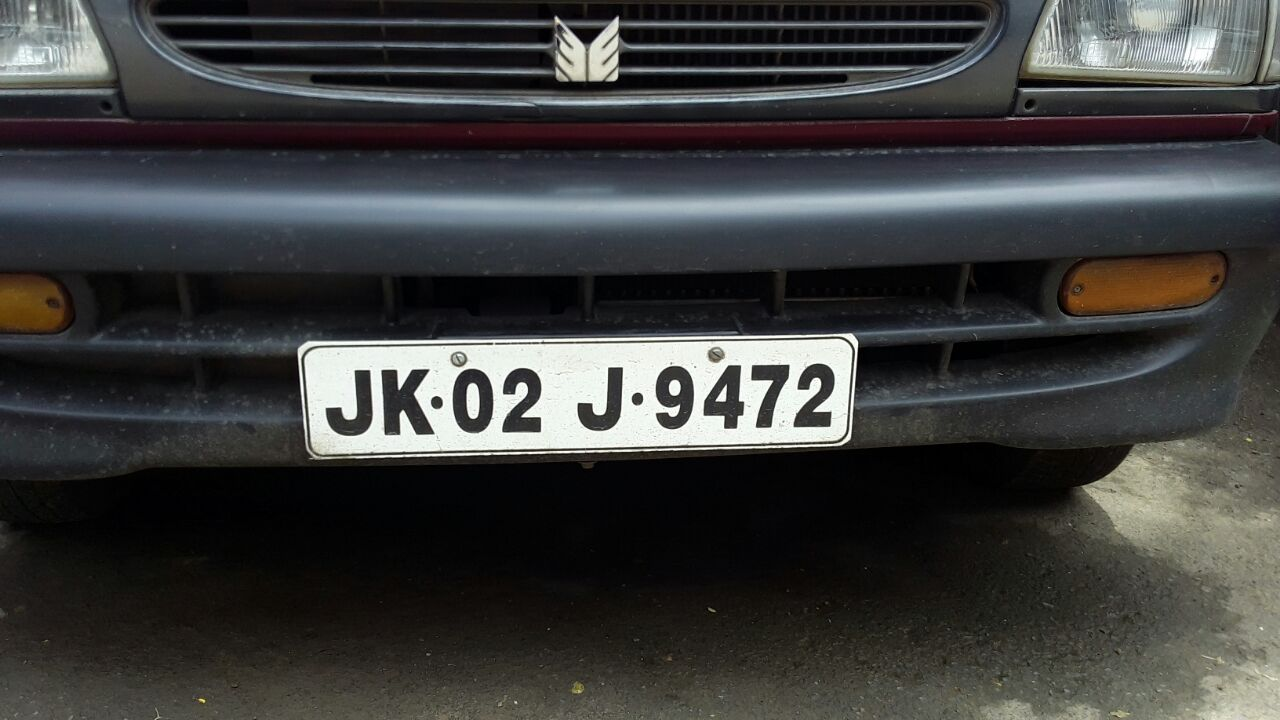licenseplate: (294, 330, 861, 465)
